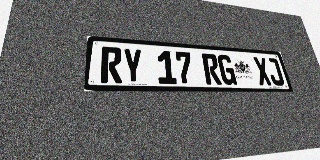1: (156, 50, 177, 84)
7: (174, 51, 195, 84)
G: (217, 54, 237, 85)
J: (265, 58, 285, 86)
R: (100, 46, 122, 83), (201, 53, 222, 85)
X: (252, 57, 273, 85)
Y: (123, 48, 143, 84)
